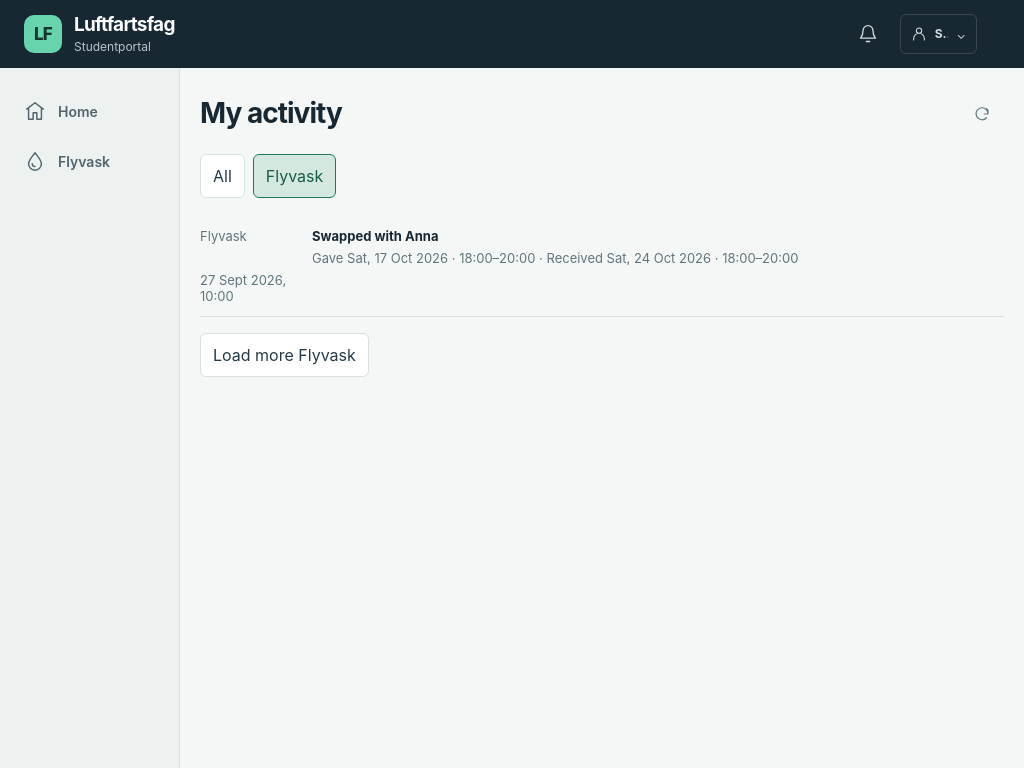
Scenario: Flyvask personal history › loads next keyset page and shows separate chain links with graceful name fallback
The width and height of the screenshot is (1024, 768).
Click the button "Load more Flyvask": (284, 355) left=200, top=333, right=369, bottom=377
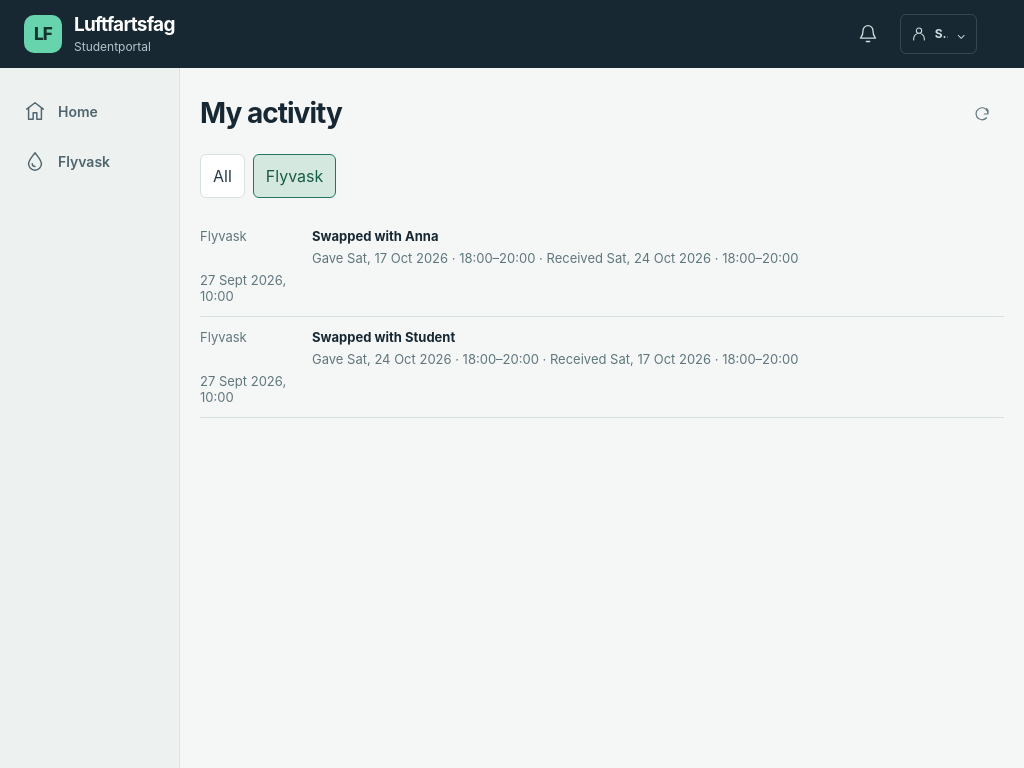
Check: the number of list items is 2, box left=200, top=216, right=1004, bottom=317; left=200, top=317, right=1004, bottom=418
Check: the text "Swapped with Student" is shown, box left=312, top=329, right=455, bottom=345
